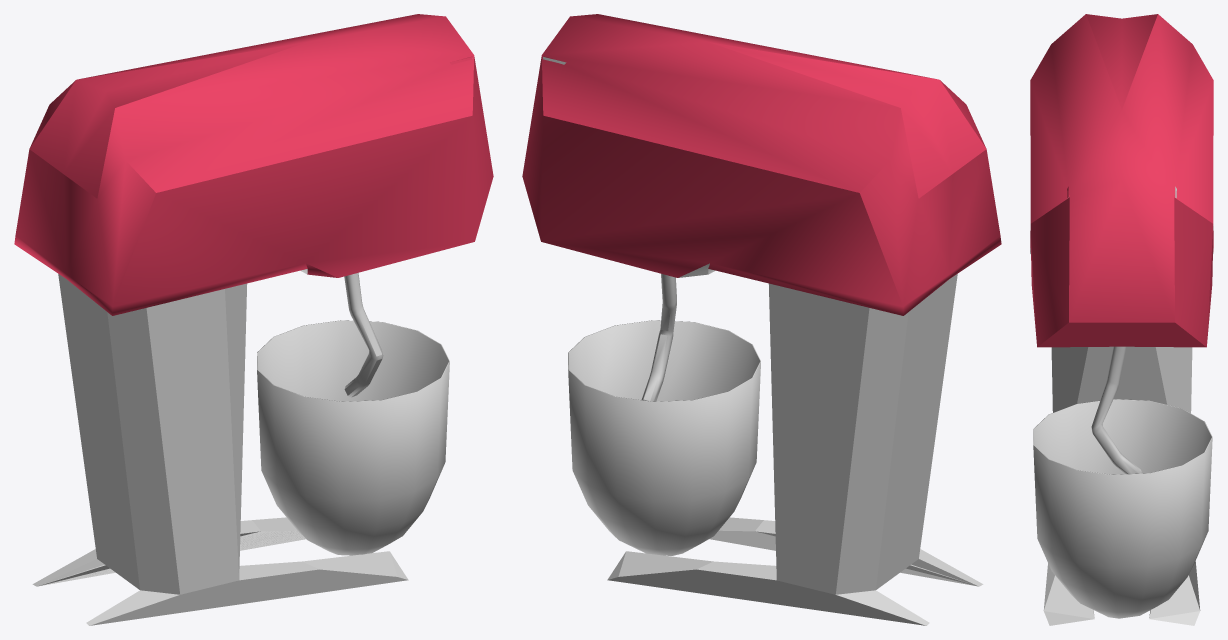
Rendered from stand mixer.fbx.
3 views of the same model, side by side, from view 1: azimuth 30°, elevation 25°; view 2: azimuth 150°, elevation 25°; view 3: azimuth 270°, elevation 25° (orthographic). The views are drawn at different scales.
Visible parts, largest first — view 1: Mixer, Bowl, Dough Hook; view 2: Mixer, Bowl, Dough Hook; view 3: Mixer, Bowl, Dough Hook.
Part boxes in pixels (x1=…): Mixer: x1=14, y1=14, x2=493, y2=625; Bowl: x1=257, y1=320, x2=449, y2=555; Dough Hook: x1=344, y1=272, x2=383, y2=397; Mixer: x1=522, y1=14, x2=1001, y2=625; Bowl: x1=568, y1=320, x2=760, y2=555; Dough Hook: x1=641, y1=273, x2=676, y2=401; Mixer: x1=1030, y1=14, x2=1213, y2=625; Bowl: x1=1033, y1=399, x2=1212, y2=618; Dough Hook: x1=1091, y1=346, x2=1141, y2=474.
Bounding box in the file's own units: 473 × 587 × 200.
